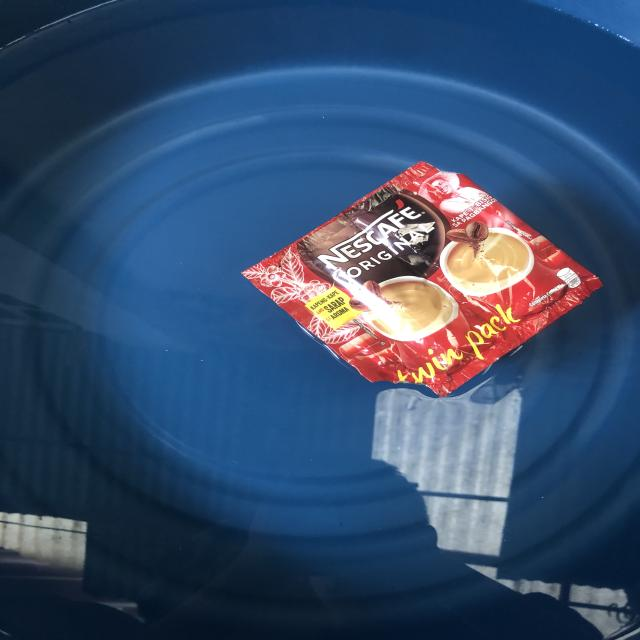Plastic Wrapper: (208, 153, 626, 406)
